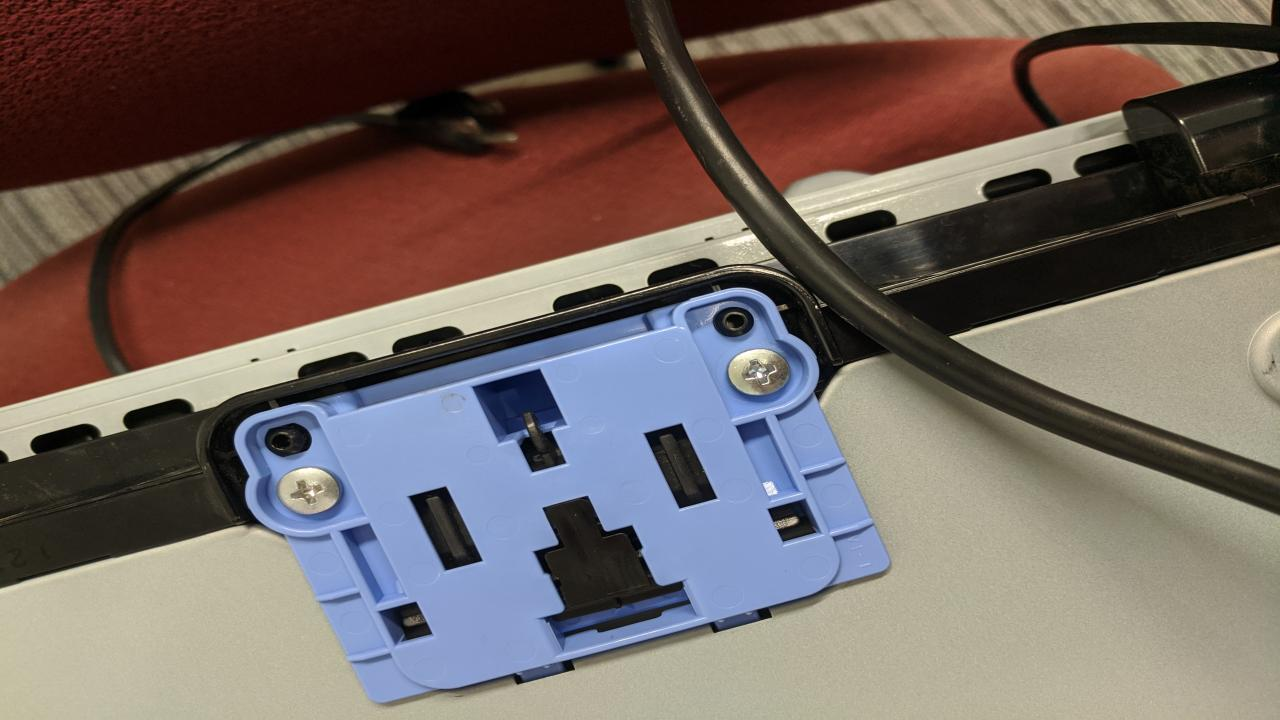CRS: (723, 349, 794, 396), (276, 465, 342, 512)
